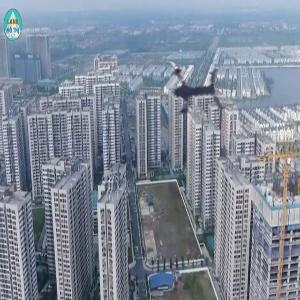drone: (149, 54, 229, 134)
